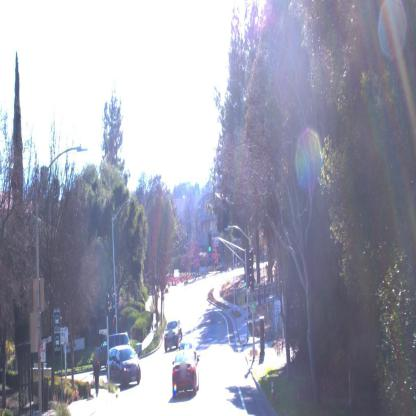car: (103, 346, 143, 391), (172, 342, 200, 400), (93, 333, 125, 378), (163, 321, 183, 352)
person: (90, 356, 100, 401)
sign: (53, 304, 63, 358)
traffic light: (241, 238, 255, 295)
